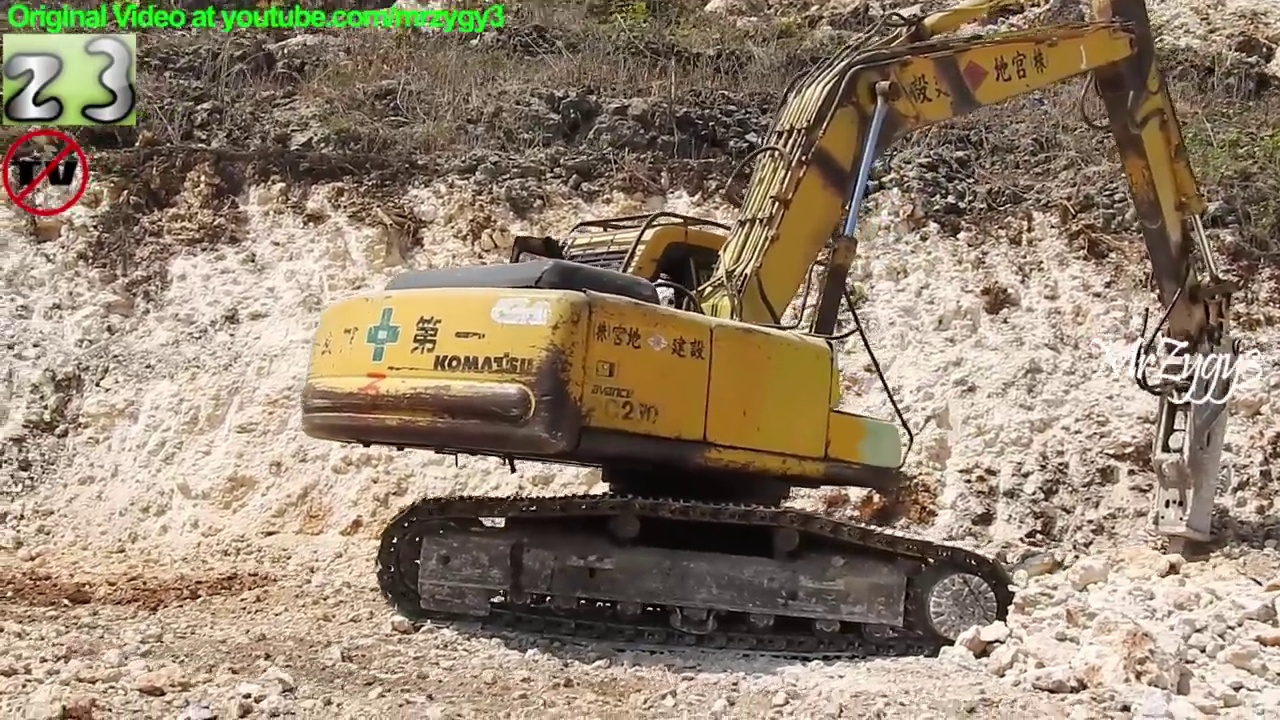excavator breaker: (292, 1, 1251, 671)
